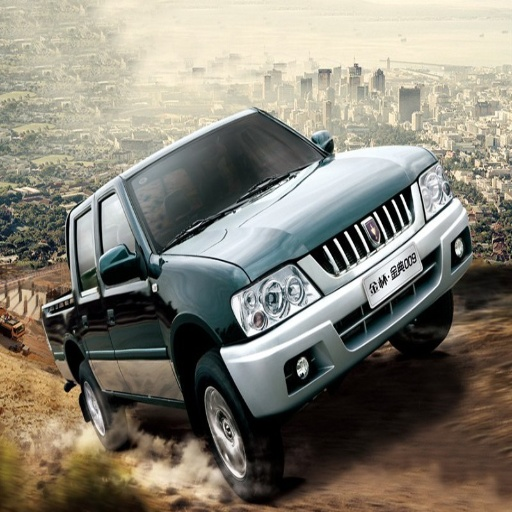front_bumper: (220, 184, 469, 419)
front_left_light: (247, 234, 349, 338), (413, 171, 453, 217)
front_right_door: (96, 189, 166, 391)
hood: (179, 147, 435, 274)
